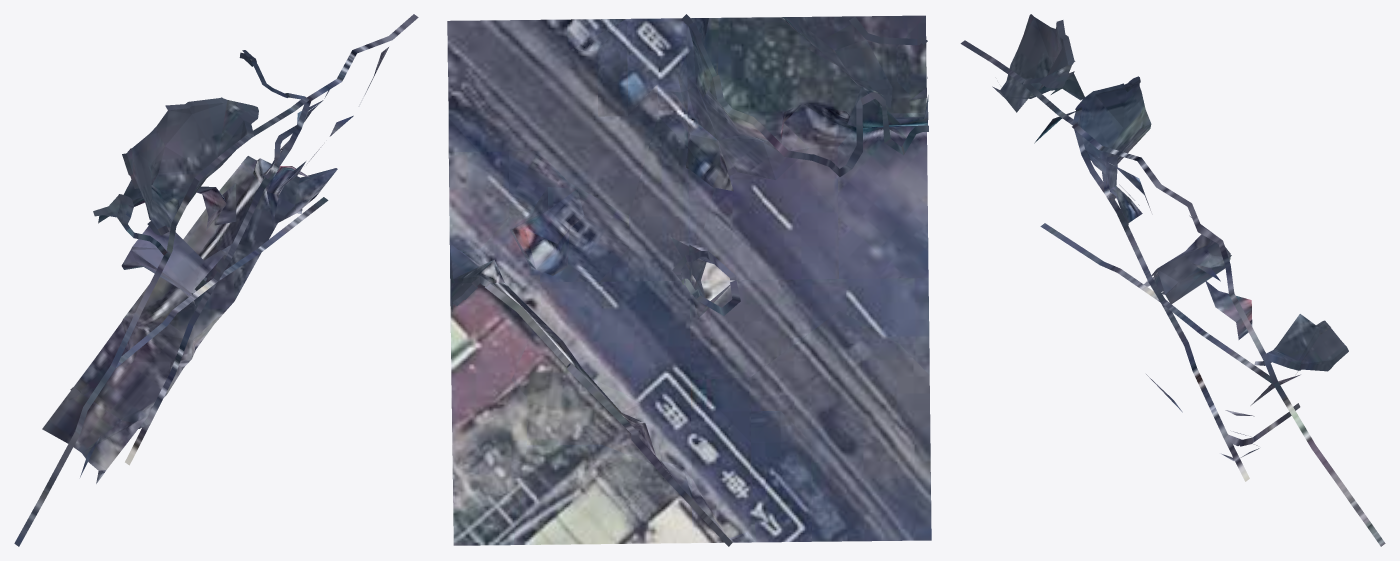
3 views of the same model, side by side, from view 1: azimuth 30°, elevation 25°; view 2: azimuth 150°, elevation 25°; view 3: azimuth 270°, elevation 25° (orthographic). The views are drawn at different scales.
Bounding box in the file's own units: 38.26 × 37.63 × 33.27.
1 material, 1 textured.
